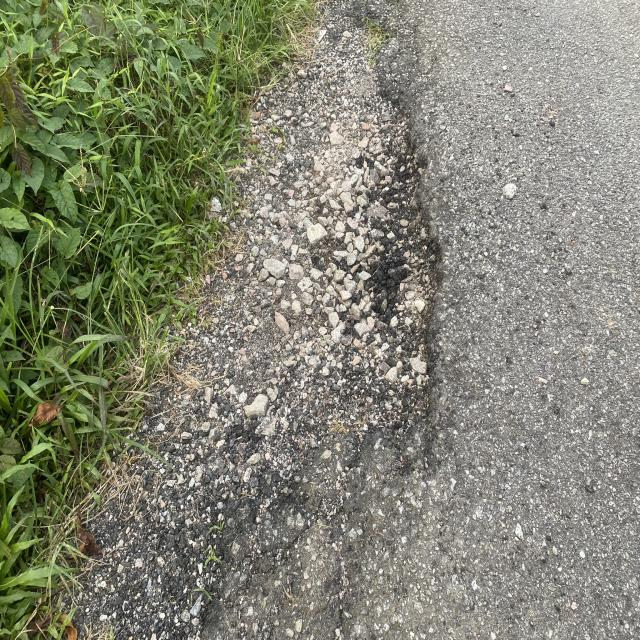pothole: (315, 74, 505, 516)
